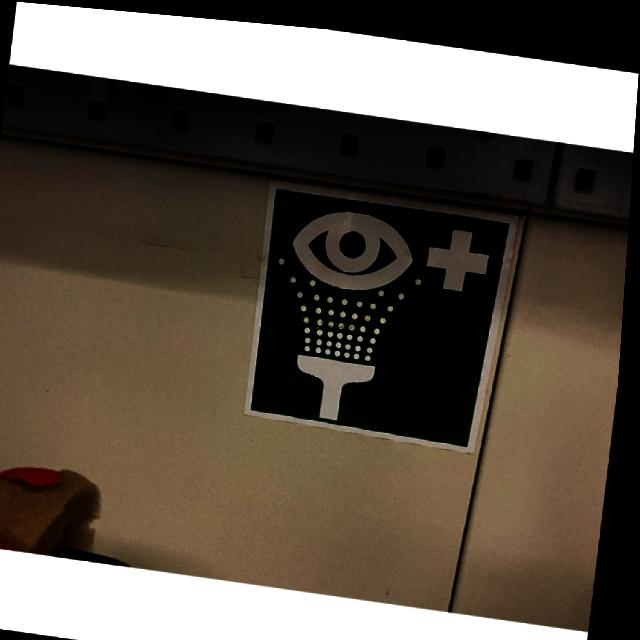eye shower: (244, 173, 523, 447)
